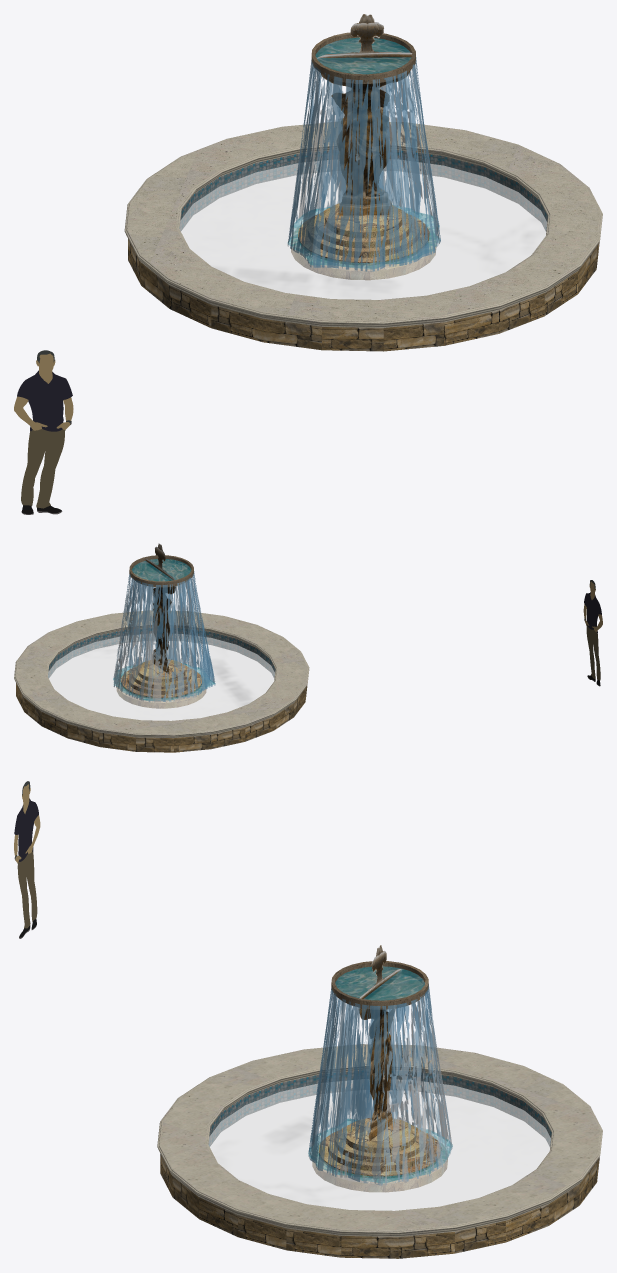
Rendered from Fountain.fbx.
3 views of the same model, one above another, from view 1: azimuth 30°, elevation 25°; view 2: azimuth 150°, elevation 25°; view 3: azimuth 270°, elevation 25° (orthographic). The views are drawn at different scales.
Visible parts, largest first — view 1: Group_154_1, Group1, Group5, Group2, Component_1_1, Chris1; view 2: Group_154_1, Group1, Group5, Group2, Component_1_1, Chris1; view 3: Group_154_1, Group1, Group5, Group2, Component_1_1, Chris1.
Part boxes in pixels (box(x1,y1,x2,y2)): Group_154_1: box(128, 150, 599, 351); Group1: box(124, 121, 602, 327); Group5: box(287, 37, 440, 271); Group2: box(287, 32, 440, 280); Component_1_1: box(317, 14, 412, 215); Chris1: box(14, 350, 73, 514); Group_154_1: box(16, 627, 307, 752); Group1: box(14, 610, 309, 738); Group5: box(113, 559, 215, 702); Group2: box(113, 555, 215, 708); Component_1_1: box(145, 543, 175, 674); Chris1: box(583, 580, 602, 686); Group_154_1: box(160, 1070, 599, 1258); Group1: box(157, 1044, 602, 1236); Group5: box(308, 966, 452, 1185); Group2: box(308, 961, 452, 1192); Component_1_1: box(359, 945, 401, 1141); Chris1: box(14, 781, 40, 938).
Size of the model in its own units: 8.3 by 2.55 by 6.15.
